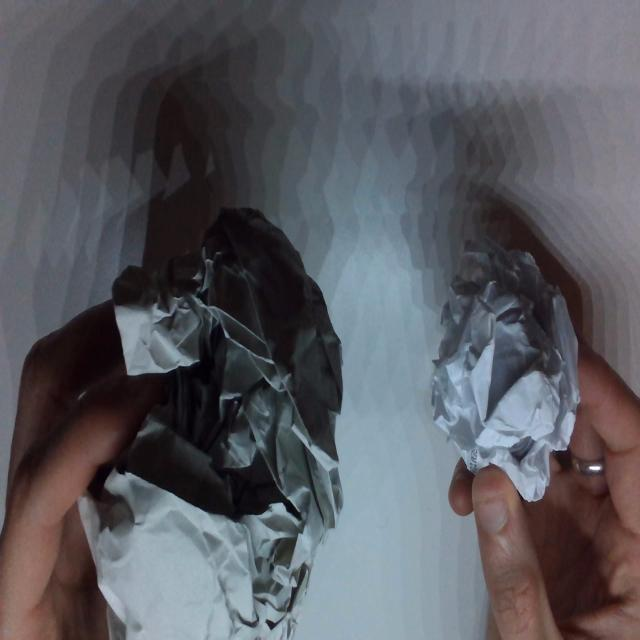Paper: (79, 247, 343, 640), (432, 249, 580, 502)
